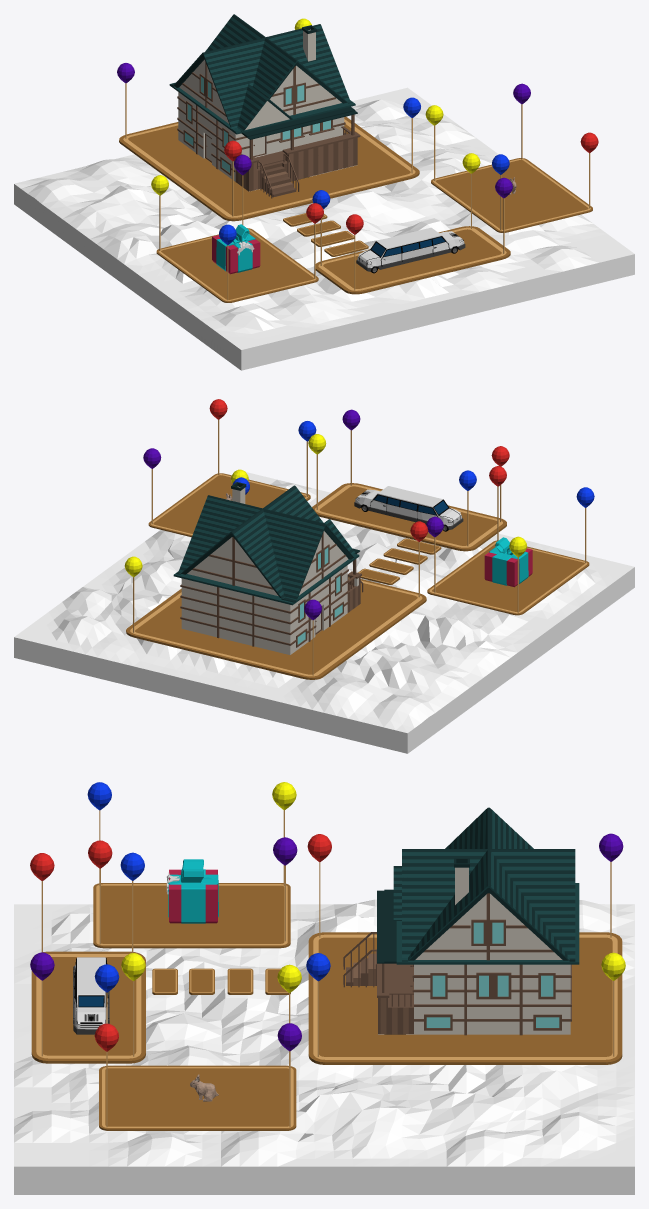
3 views of the same model, one above another, from view 1: azimuth 30°, elevation 25°; view 2: azimuth 150°, elevation 25°; view 3: azimuth 270°, elevation 25° (orthographic). The views are drawn at different scales.
Visible parts, largest first — view 1: Cube.013, Cube.793, VEHICLES_LIMOUSINE, OBJRANDOM_GIANT_PRESENT; view 2: Cube.013, Cube.793, VEHICLES_LIMOUSINE, OBJRANDOM_GIANT_PRESENT; view 3: Cube.013, Cube.793, OBJRANDOM_GIANT_PRESENT, VEHICLES_LIMOUSINE.
Boxes of the visible parts, bbox=[...] form: Cube.013: bbox=[14, 18, 634, 370]; Cube.793: bbox=[169, 14, 360, 198]; VEHICLES_LIMOUSINE: bbox=[356, 227, 465, 273]; OBJRANDOM_GIANT_PRESENT: bbox=[212, 224, 260, 274]; Cube.013: bbox=[14, 399, 634, 753]; Cube.793: bbox=[173, 482, 363, 654]; VEHICLES_LIMOUSINE: bbox=[354, 486, 463, 531]; OBJRANDOM_GIANT_PRESENT: bbox=[484, 537, 532, 587]; Cube.013: bbox=[14, 782, 634, 1194]; Cube.793: bbox=[343, 807, 579, 1035]; OBJRANDOM_GIANT_PRESENT: bbox=[166, 859, 218, 923]; VEHICLES_LIMOUSINE: bbox=[73, 957, 109, 1034].
Bounding box in the file's own units: 4000 × 1666 × 4000.
Materials: 33 (2 with a texture image).
